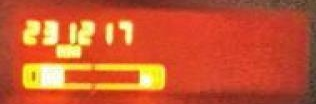1: (101, 19, 113, 44), (65, 19, 75, 43)
2: (75, 18, 95, 44), (18, 18, 38, 44)
3: (39, 18, 58, 44)
7: (113, 18, 131, 44)
X: (65, 44, 80, 58), (53, 43, 64, 57)
